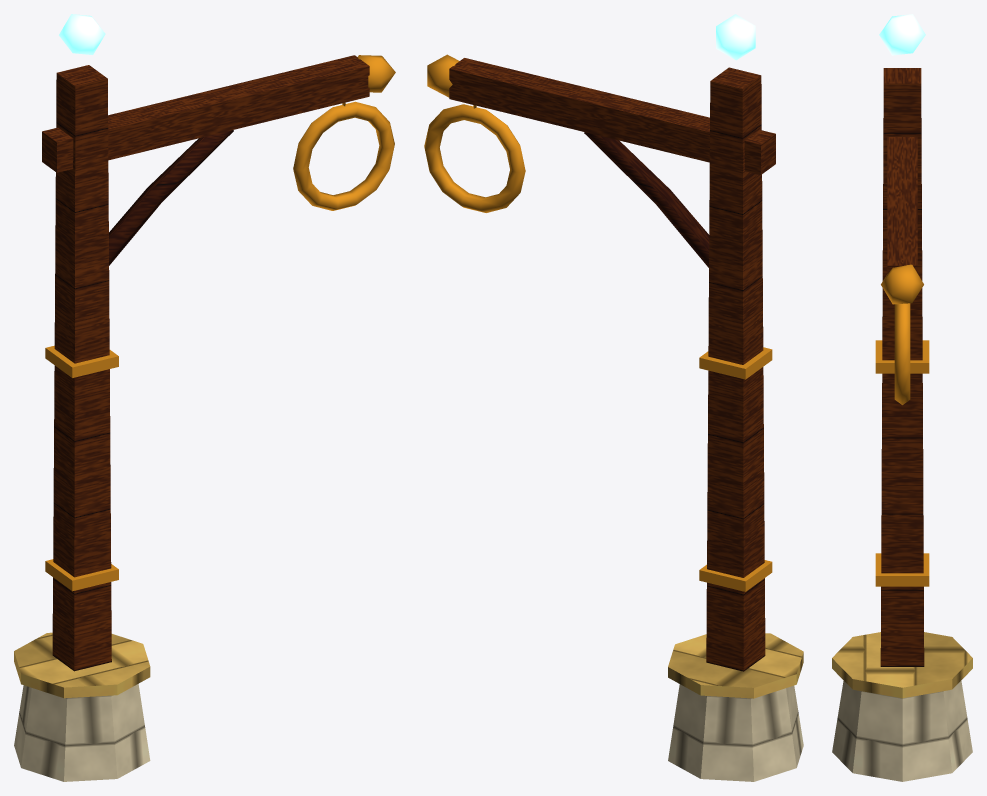
Rendered from grapple_post_sky.glb.
3 views of the same model, side by side, from view 1: azimuth 30°, elevation 25°; view 2: azimuth 150°, elevation 25°; view 3: azimuth 270°, elevation 25° (orthographic).
Parts seen in each view (by area): view 1: grapple_post_sky; view 2: grapple_post_sky; view 3: grapple_post_sky.
Boxes of the visible parts, x1=… form: grapple_post_sky: x1=14, y1=14, x2=395, y2=781; grapple_post_sky: x1=424, y1=14, x2=803, y2=781; grapple_post_sky: x1=832, y1=14, x2=972, y2=781.
Bounding box in the file's own units: 2.57 × 4.84 × 0.84.
Materials: 4 (2 with a texture image).
